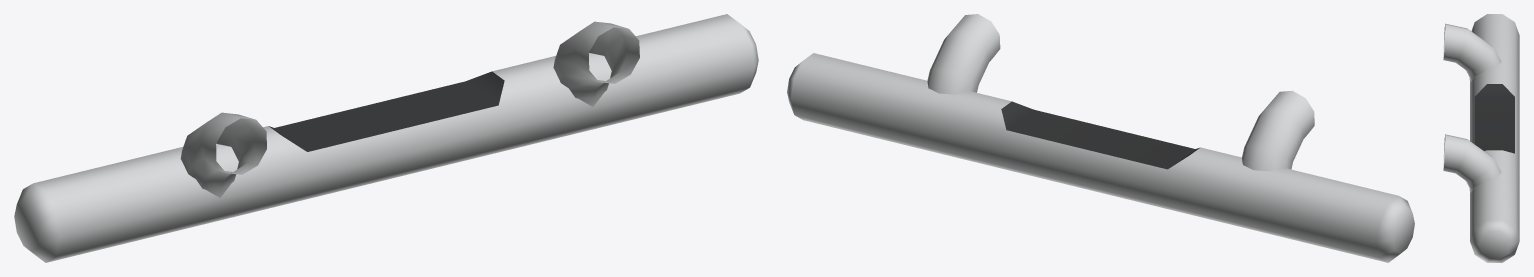
File: Car_12_RearBumper_Simple.fbx
The picture shows the model from 3 angles, left to right: view 1: azimuth 30°, elevation 25°; view 2: azimuth 150°, elevation 25°; view 3: azimuth 270°, elevation 25°; orthographic projection. The views are drawn at different scales.
Visible parts, largest first — view 1: Car_12_RearBumper_Simple; view 2: Car_12_RearBumper_Simple; view 3: Car_12_RearBumper_Simple.
Part boxes in pixels (x1,y1,x2,y2): Car_12_RearBumper_Simple: [14, 14, 758, 262]; Car_12_RearBumper_Simple: [787, 14, 1414, 262]; Car_12_RearBumper_Simple: [1443, 14, 1519, 262].
Size of the model in its own units: 147 by 22.2 by 25.51.
